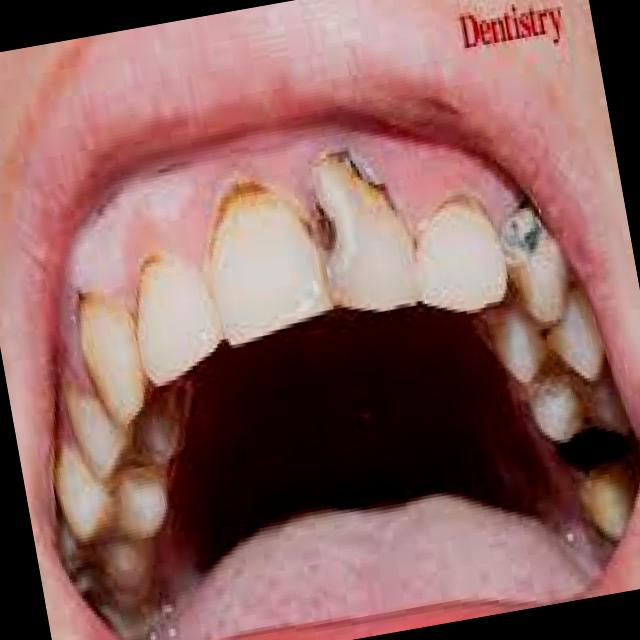caries: (298, 134, 406, 272), (480, 183, 554, 294)
